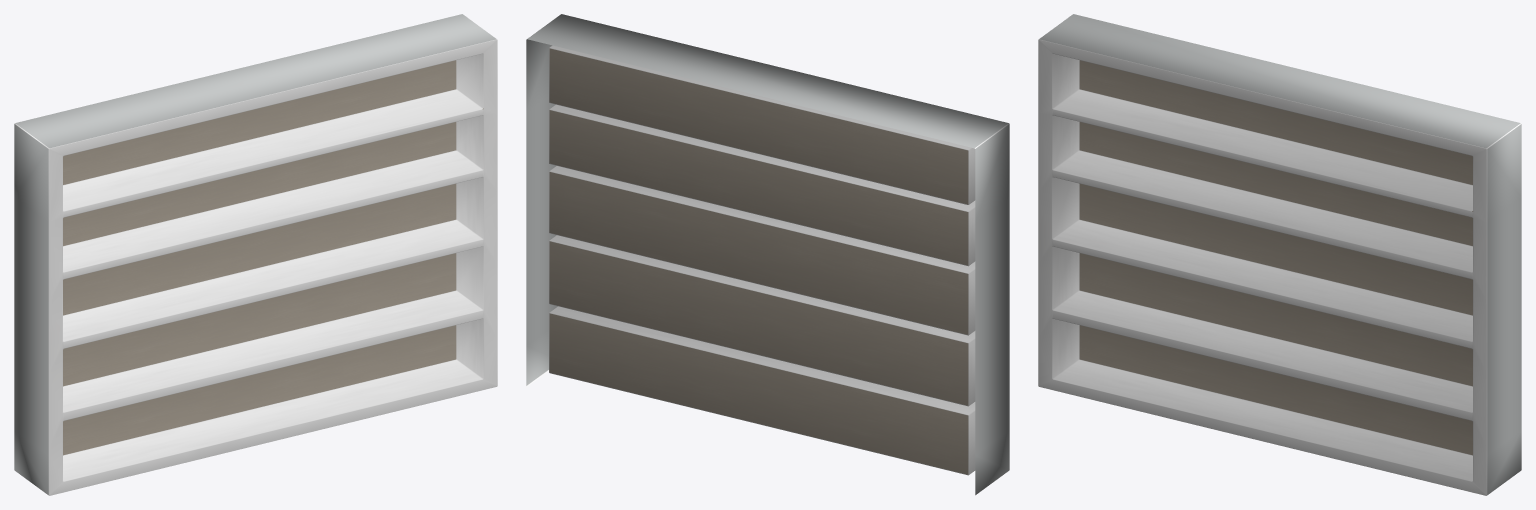
File: Shelf.fbx
The picture shows the model from 3 angles, left to right: view 1: azimuth 30°, elevation 25°; view 2: azimuth 150°, elevation 25°; view 3: azimuth 330°, elevation 25°; orthographic projection.
Visible parts, largest first — view 1: Shelf; view 2: Shelf; view 3: Shelf.
Part boxes in pixels (x1,y1,x2,y2): Shelf: (14, 14, 497, 495); Shelf: (526, 14, 1009, 495); Shelf: (1038, 14, 1521, 495).
Bounding box in the file's own units: 300 × 222 × 40.
